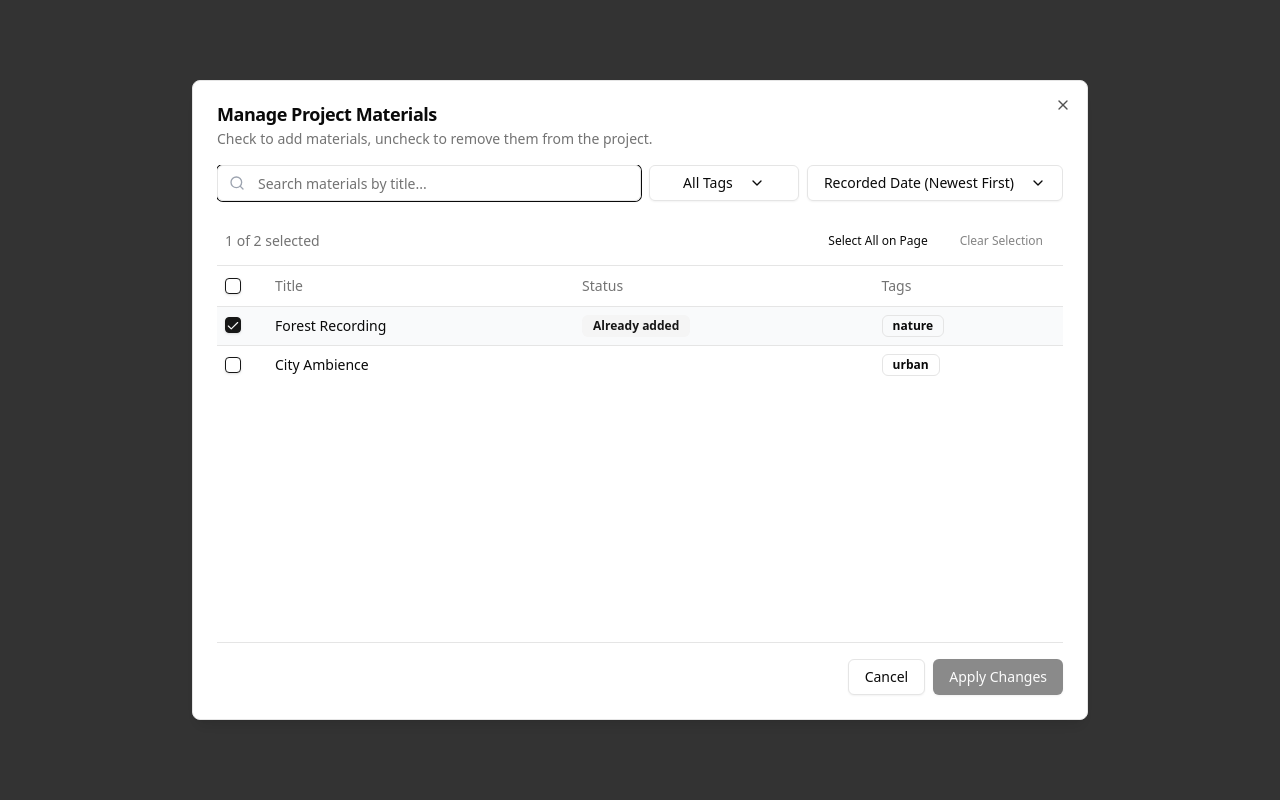
Test: ManageMaterialsModal › should use header checkbox for select all
Check: the text "Forest Recording" is shown, box [267,306,574,345]
# Click header checkbox
Click the checkbox next to "Title" at (233, 286), box [225,278,241,294]
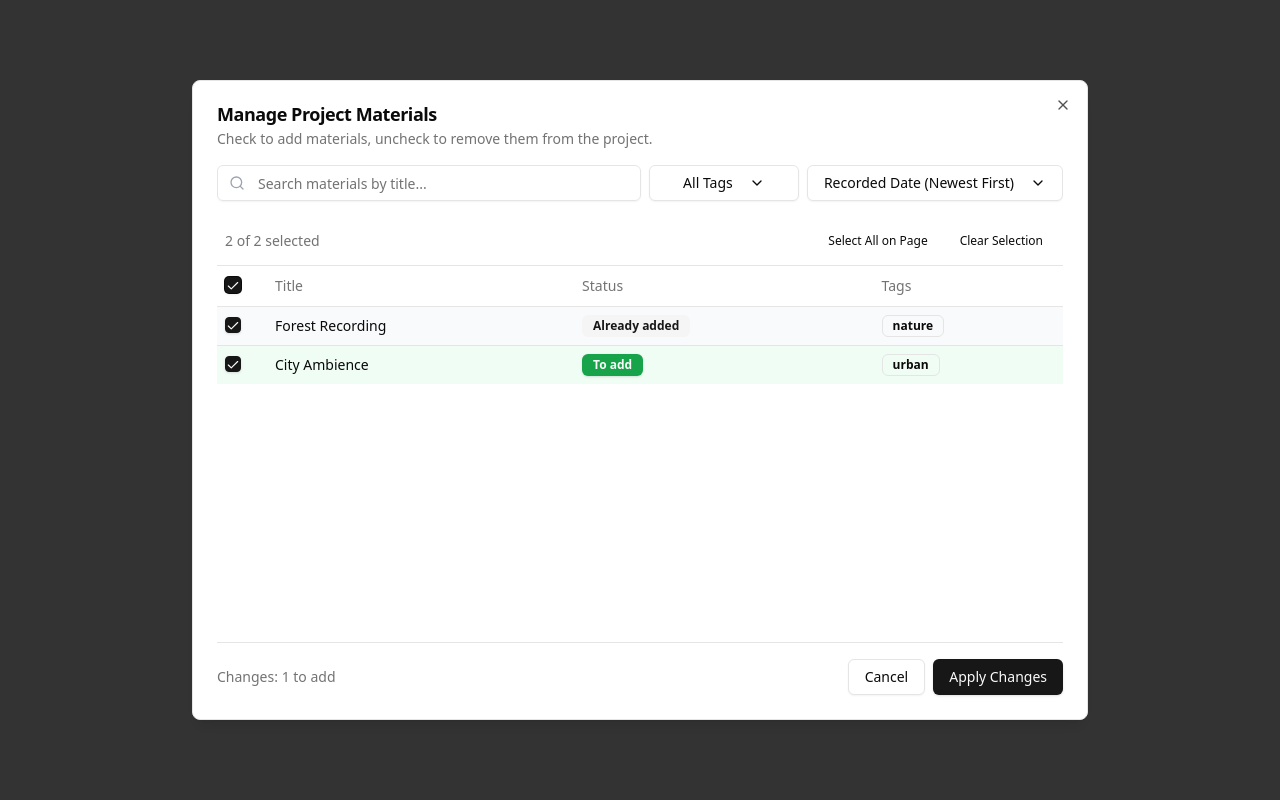
Check: the text "2 of 2 selected" is shown, box [225,231,320,251]
